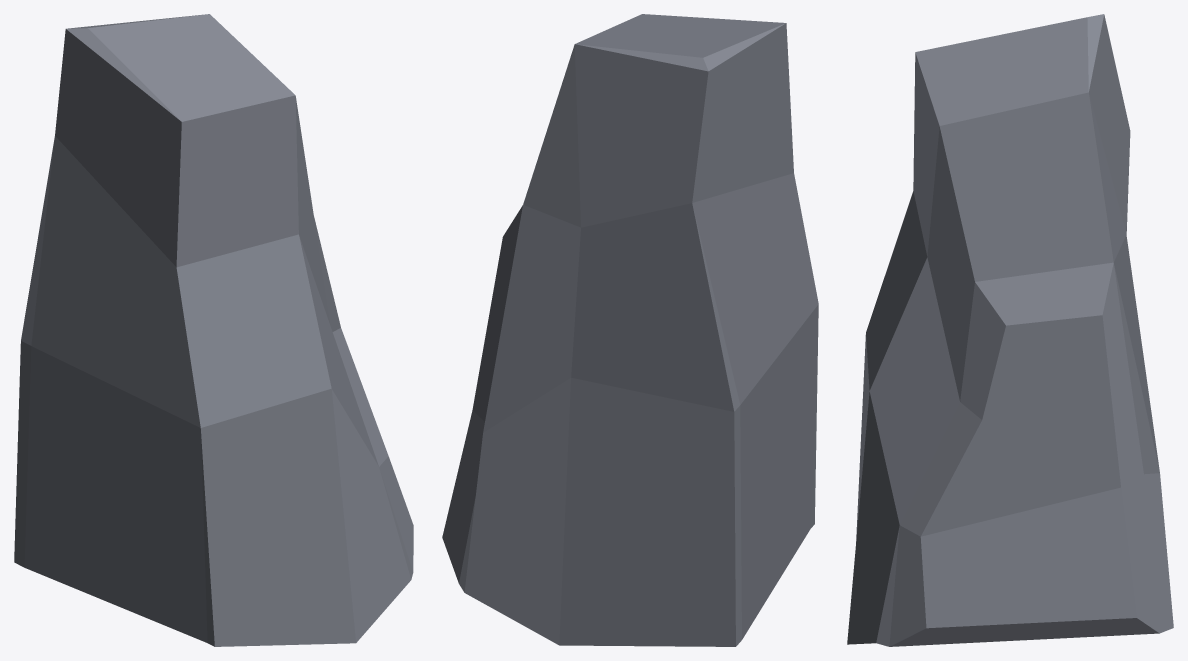
The model's file is rock_1.glb.
3 views of the same model, side by side, from view 1: azimuth 30°, elevation 25°; view 2: azimuth 150°, elevation 25°; view 3: azimuth 270°, elevation 25° (orthographic). The views are drawn at different scales.
Parts seen in each view (by area): view 1: rock_1; view 2: rock_1; view 3: rock_1.
Part boxes in pixels (<box>): rock_1: <box>14,14,413,646</box>; rock_1: <box>442,14,818,646</box>; rock_1: <box>847,14,1173,646</box>.
Bounding box in the file's own units: 0.4853 × 0.8777 × 0.4667.
Materials: 1 (1 with a texture image).
